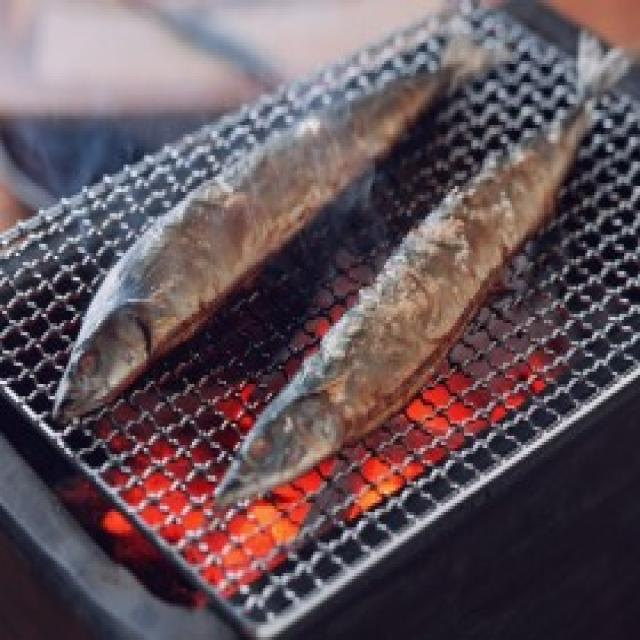熟制海鲜: (210, 24, 640, 512), (50, 6, 508, 421)
